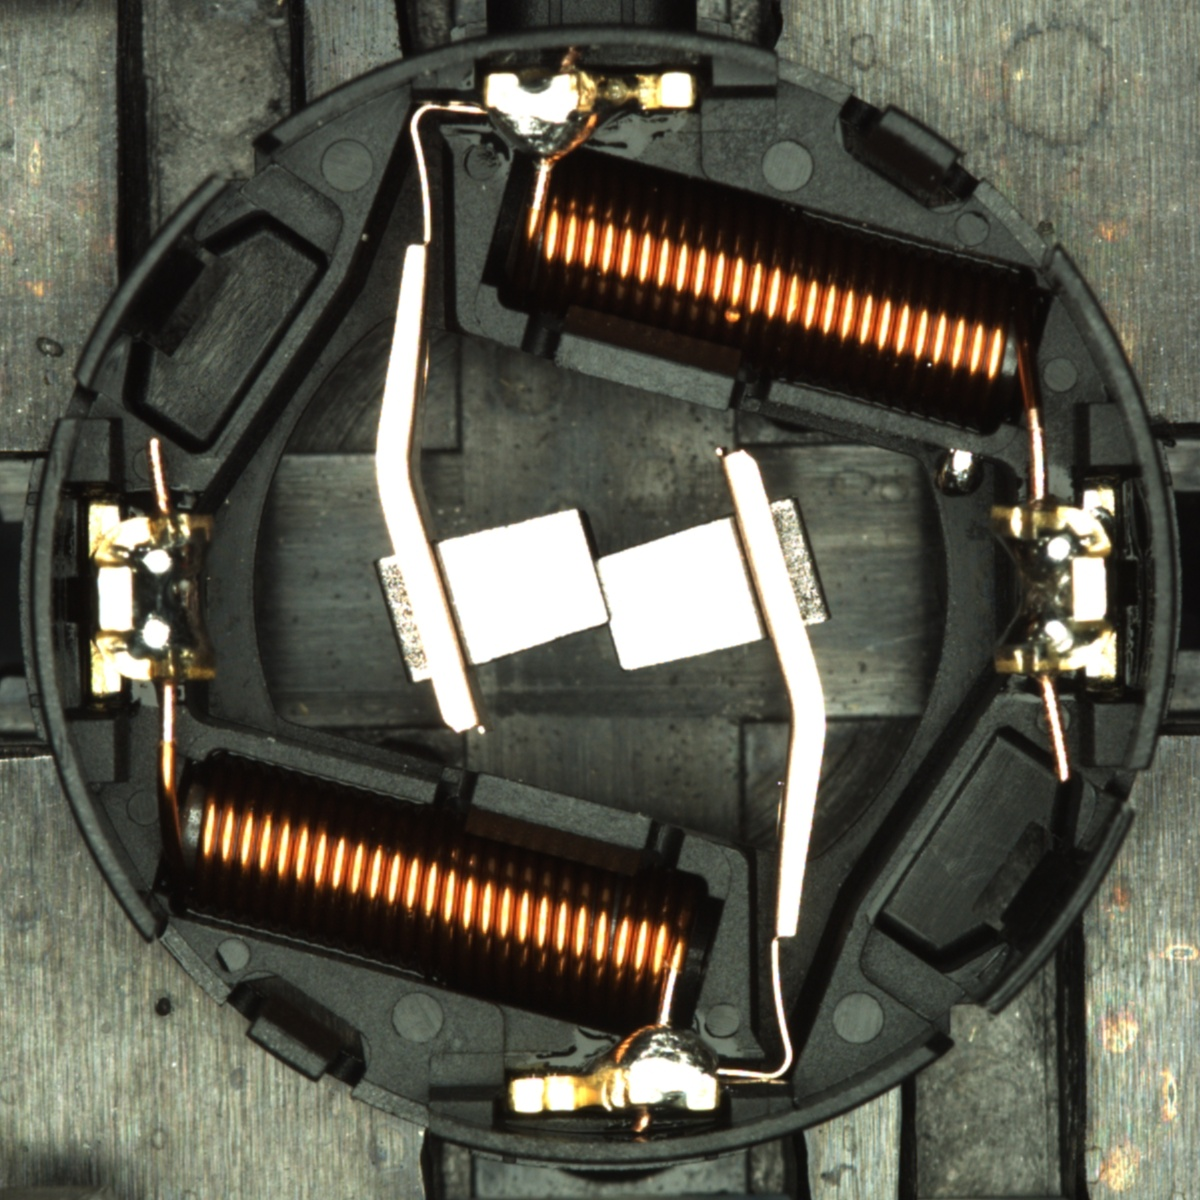1: (254, 29, 483, 254), (712, 927, 941, 1151)
2: (712, 29, 941, 254), (254, 927, 483, 1151)
3: (24, 254, 254, 478), (941, 703, 1171, 927)
4: (254, 254, 483, 478), (712, 703, 941, 927)
5: (483, 142, 712, 366), (483, 815, 712, 1039)
6: (712, 254, 941, 478), (254, 703, 483, 927)
7: (24, 703, 254, 927)
cacbon: (394, 497, 801, 684)
chau_dien: (80, 496, 221, 699), (984, 487, 1123, 686)
hat_chi: (932, 447, 984, 499)
tay_choi: (481, 68, 701, 168), (508, 1019, 721, 1117)
thanh_de: (955, 787, 1142, 1030), (60, 163, 246, 404)
